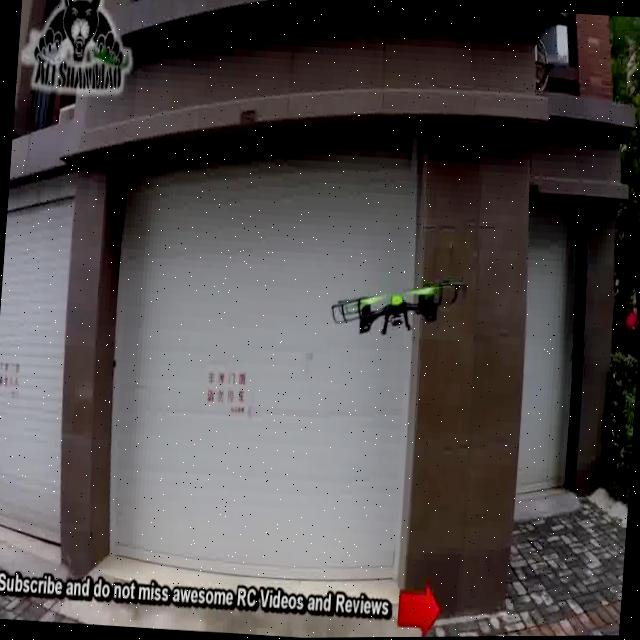drone: (290, 248, 478, 380)
